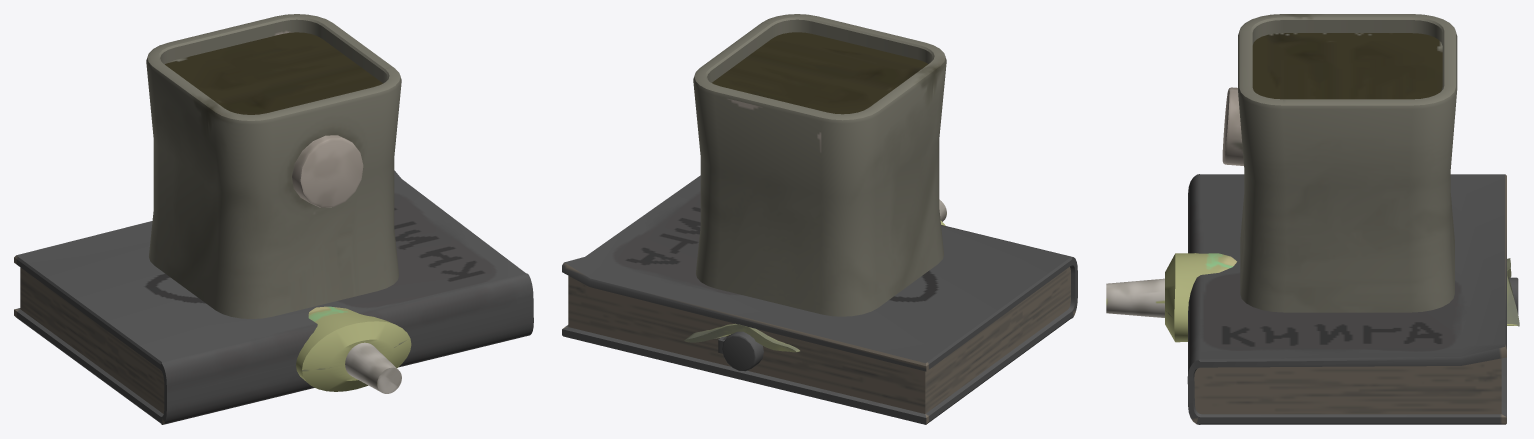
Rendered from Stuff.glb.
3 views of the same model, side by side, from view 1: azimuth 30°, elevation 25°; view 2: azimuth 150°, elevation 25°; view 3: azimuth 270°, elevation 25° (orthographic). The views are drawn at different scales.
Visible parts, largest first — view 1: Pot, Book, Tube; view 2: Pot, Book, Marker, Tube; view 3: Pot, Book, Tube.
Part boxes in pixels (bbox=[...]): Pot: bbox=[146, 14, 401, 318]; Book: bbox=[14, 170, 533, 424]; Tube: bbox=[296, 306, 411, 393]; Pot: bbox=[693, 14, 946, 316]; Book: bbox=[562, 175, 1077, 424]; Marker: bbox=[718, 331, 763, 371]; Tube: bbox=[684, 199, 946, 352]; Pot: bbox=[1222, 14, 1457, 312]; Book: bbox=[1187, 174, 1506, 424]; Tube: bbox=[1106, 253, 1519, 342].
Size of the model in its own units: 2 by 1.37 by 1.87.
Materials: 4 (4 with a texture image).
